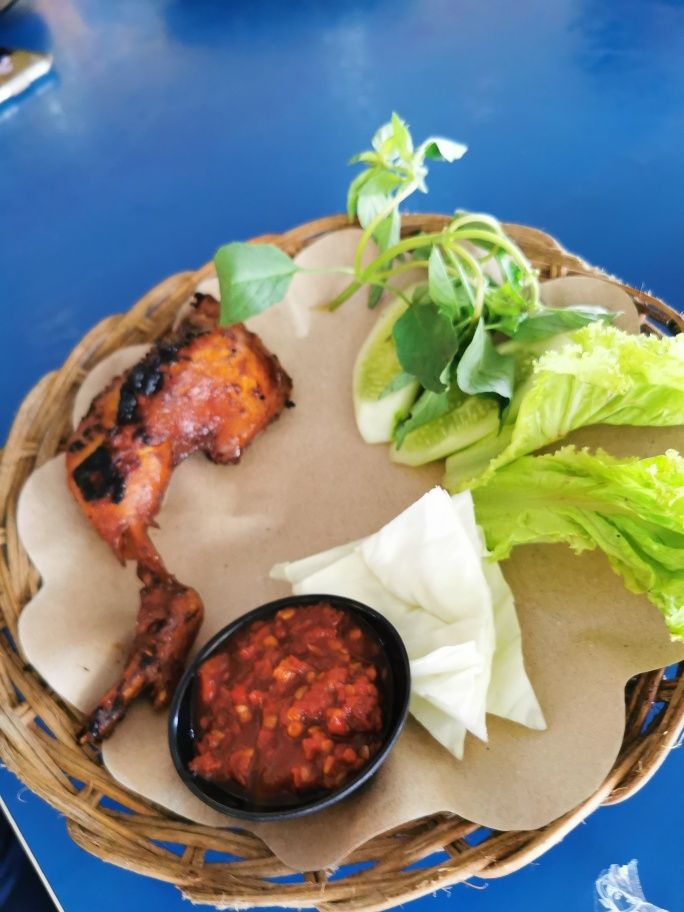ayam bakar: (64, 288, 295, 742)
